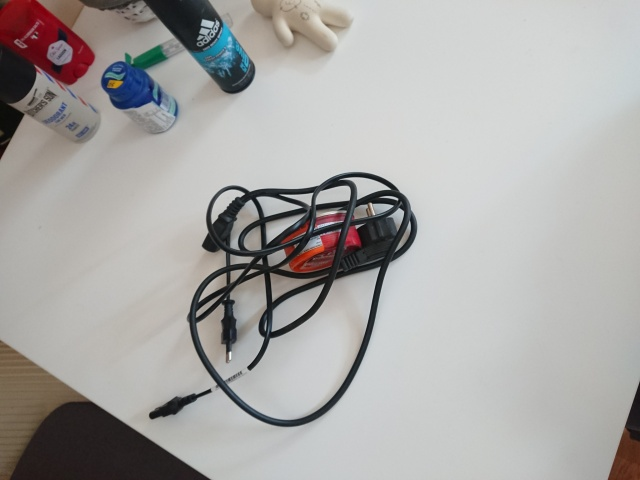Gavrilovic Pork Liver Pate 100g: (280, 207, 363, 276)
